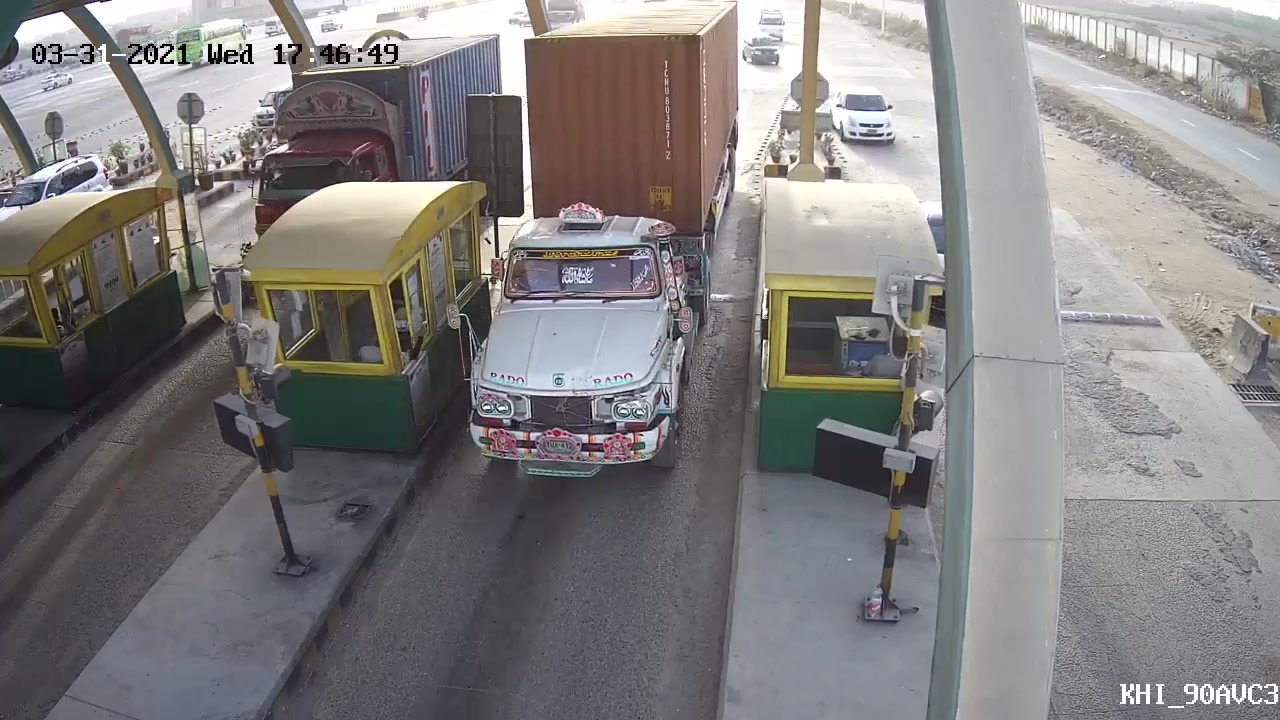F6: (472, 1, 744, 514)
